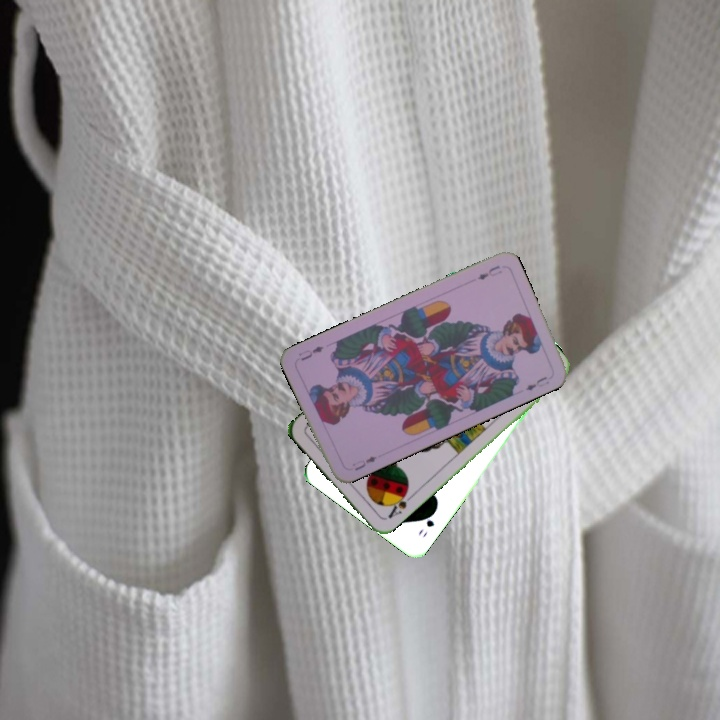EU: (473, 261, 504, 282), (350, 452, 380, 473)
GO: (414, 506, 439, 539)
SA: (384, 486, 416, 521)
